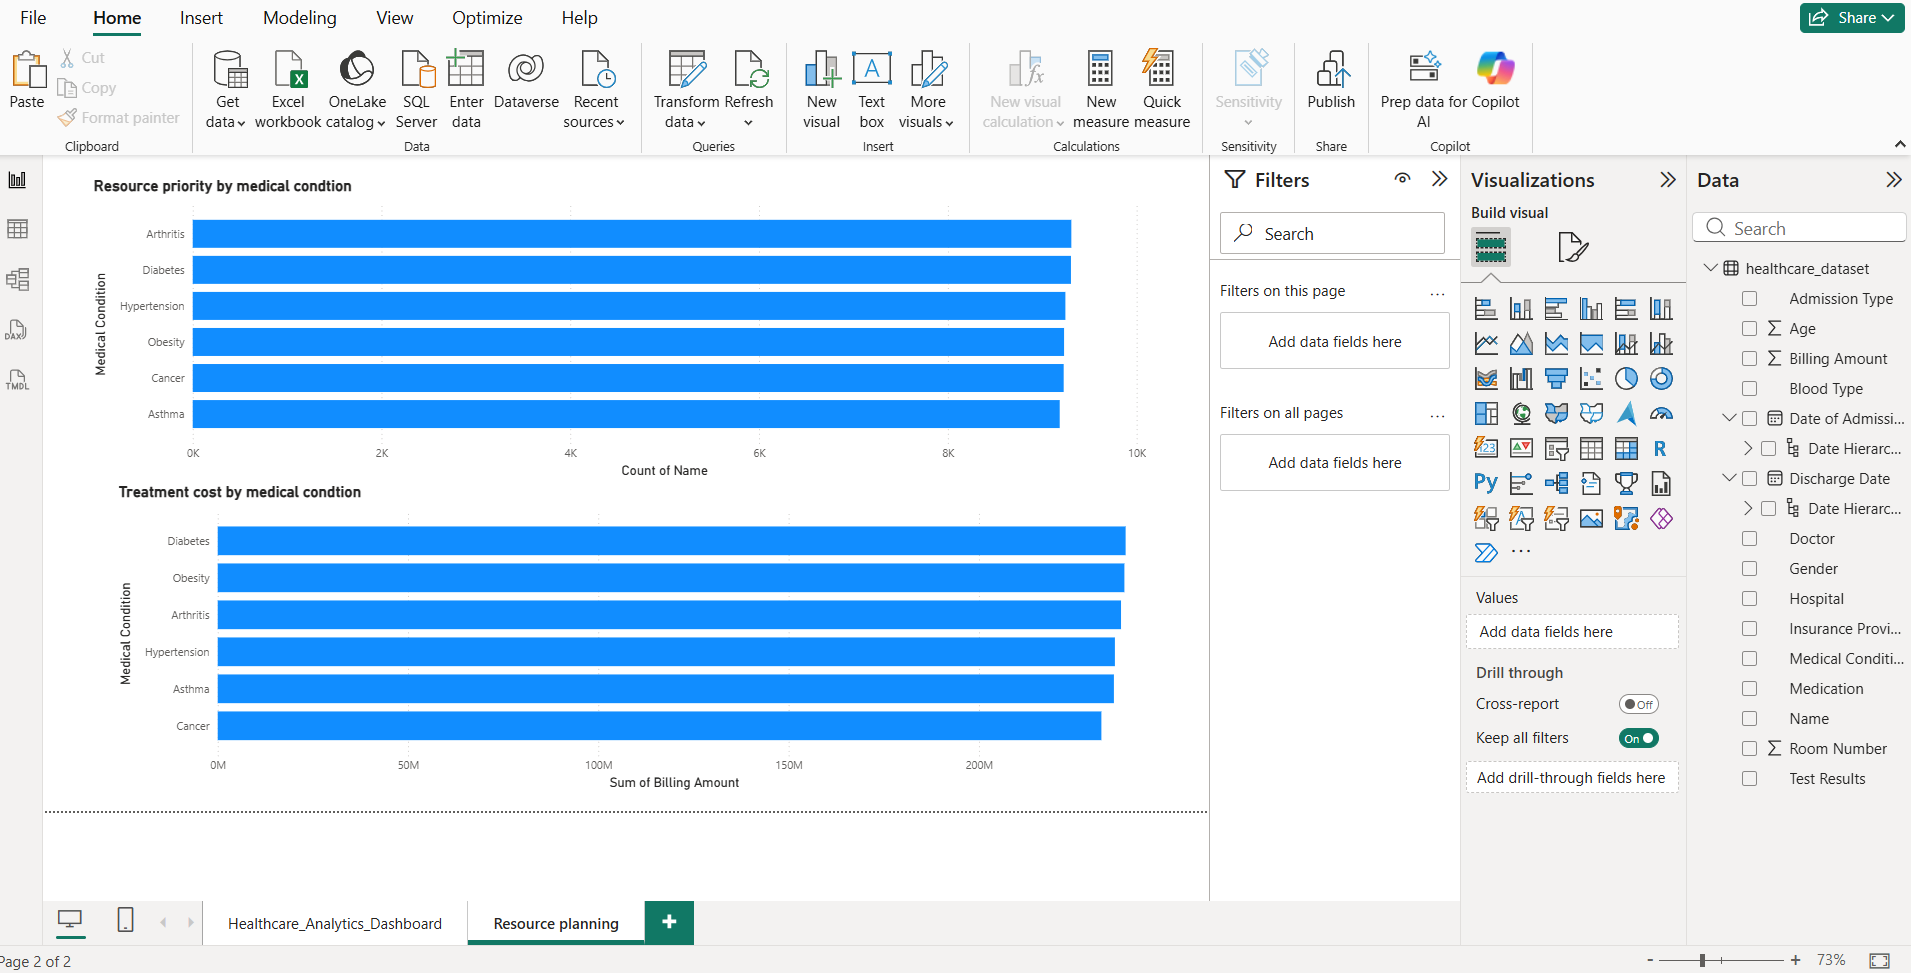

The dashboard page shown, as its layout file describes it:
{"tool":"powerbi","page":{"name":"Resource planning ","canvas":[1280,720],"ordinal":1},"visuals":[{"type":"clusteredBarChart","title":"Resource priority by medical condtion","fields":{"Category":["healthcare_dataset.Medical Condition"],"Y":["CountNonNull(healthcare_dataset.Name)"]},"box":[50.8,23.3,1165,336.2],"z":0},{"type":"clusteredBarChart","title":"Treatment cost by medical condtion","fields":{"Category":["healthcare_dataset.Medical Condition"],"Y":["Sum(healthcare_dataset.Billing Amount)"]},"box":[78.2,359.5,1137.6,343.1],"z":2}]}

Visuals, with their boxes on the page's 1280x720 design canvas (x1, y1, x2, y2). These are canvas units, not pixel positions in the 1911x973 screenshot, which may show the page scaled, cropped or inside an application window:
"Resource priority by medical condtion" clusteredBarChart: (51,23,1216,360)
"Treatment cost by medical condtion" clusteredBarChart: (78,360,1216,703)
